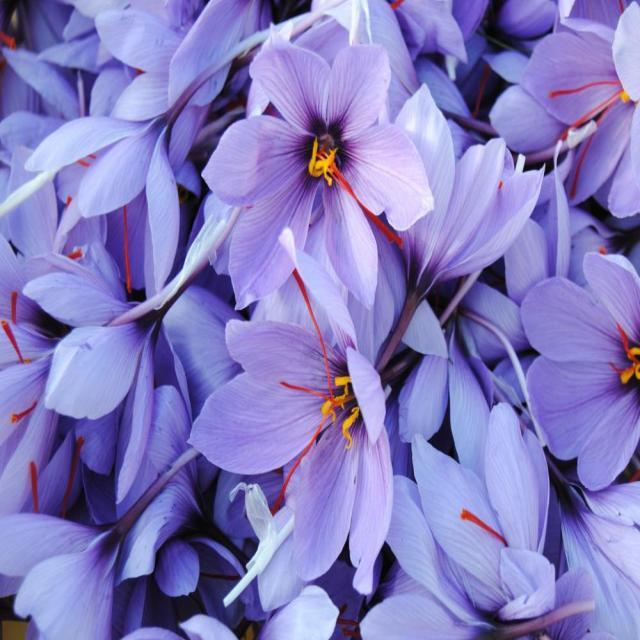Flower: (0, 0, 636, 628), (207, 25, 437, 327)
stigma: (267, 416, 329, 512), (334, 168, 406, 246), (294, 264, 330, 368), (452, 502, 506, 553), (56, 438, 89, 520), (115, 201, 137, 293), (613, 324, 640, 396), (549, 75, 622, 99), (278, 382, 338, 408), (25, 455, 46, 512), (3, 317, 25, 358)
